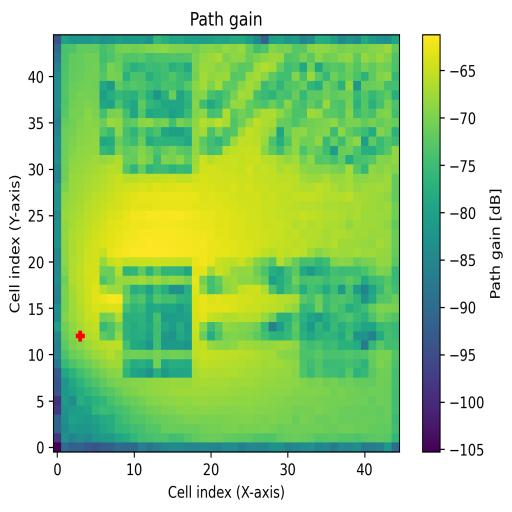Concrete: (298, 54, 369, 174)
Glass: (122, 55, 193, 175)
Metal: (299, 257, 369, 378)
Wood: (122, 266, 192, 376)
